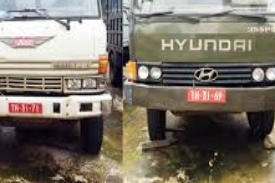plate: (186, 88, 226, 102), (8, 101, 41, 114)
